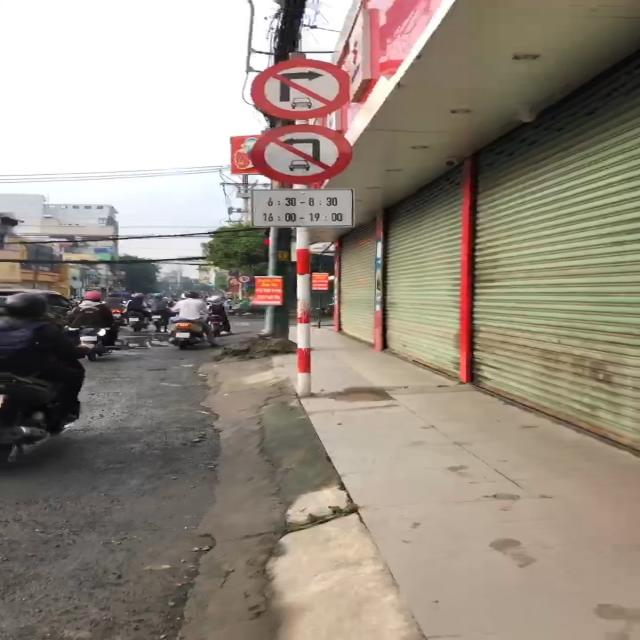Bien bao cam xe o to re phai: (246, 55, 358, 122)
Bien bao cam xe o to re trai: (246, 122, 362, 186)
